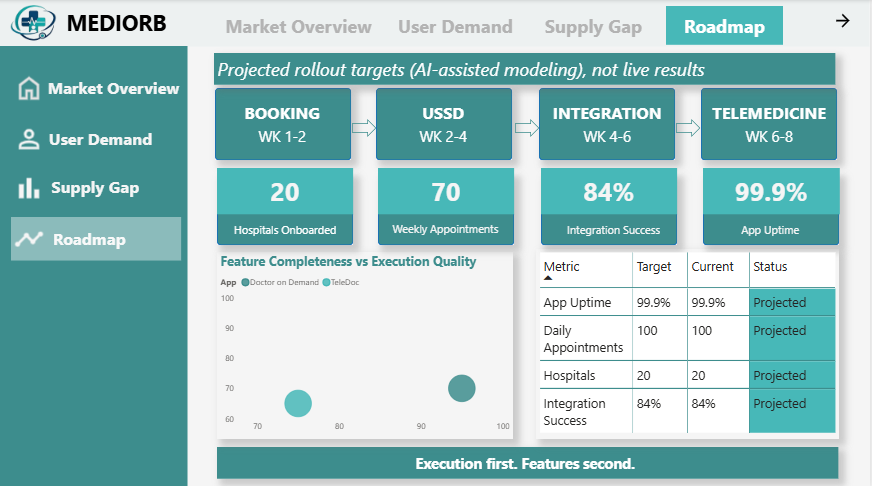

The page's visual inventory and layout, read from the dashboard file:
{"tool":"powerbi","page":{"name":"Page 4","canvas":[1280,720],"ordinal":3},"visuals":[{"type":"actionButton","box":[577.5,11.8,189.6,57.3],"z":0,"group":"g9"},{"type":"textbox","title":"P1_Market1","box":[321.8,16.2,236.6,52.9],"z":0,"group":"g11"},{"type":"textbox","title":"P1_User1","box":[570.2,16.2,201.3,52.9],"z":0,"group":"g5"},{"type":"shape","title":"P1_Navigation","box":[0,69.1,277.1,650.7],"z":0},{"type":"group","id":"g1","title":"P2_Cards","box":[317.1,131.4,913.7,106.7],"z":0,"group":"g6"},{"type":"group","id":"g2","title":"Group 1","box":[317.1,131.4,913.7,106.7],"z":0,"group":"g1"},{"type":"shape","box":[553.6,131.9,200.1,106.1],"z":0,"group":"g2"},{"type":"group","id":"g3","title":"P2_Cards","box":[320.5,249,915,120],"z":0,"group":"g10"},{"type":"group","id":"g4","title":"Group 1","box":[320.6,255.9,913.7,113.1],"z":0,"group":"g3"},{"type":"shape","box":[557.1,256.4,200.1,106.1],"z":0,"group":"g4"},{"type":"scatterChart","title":"Feature Completeness vs Execution Quality","fields":{"X":["Table.Feature Completeness"],"Y":["Table.Execution Quality"],"Series":["Table.App"]},"box":[320,372.4,434.9,274.8],"z":0,"group":"g7"},{"type":"shape","title":"P1_CardShape","box":[320,658.4,913.3,46.7],"z":0,"group":"g8"},{"type":"group","id":"g5","title":"Group 2","box":[323.3,10.3,828.7,58.8],"z":1000,"group":"g11"},{"type":"actionButton","box":[323.3,11.8,236.6,57.3],"z":1000,"group":"g9"},{"type":"textbox","title":"P1_Supply1","box":[781.7,16.2,183.7,52.9],"z":1000,"group":"g5"},{"type":"group","id":"g6","title":"Group 3","box":[317.1,131.4,918.4,570.8],"z":1000,"group":"g8"},{"type":"shape","box":[793,131.9,200.1,106.1],"z":1000,"group":"g2"},{"type":"group","id":"g7","title":"Group 2","box":[320,145.8,915.5,556.4],"z":1000,"group":"g6"},{"type":"textbox","title":"P4_TEXTBOX02","box":[559.2,182.3,185.8,44.8],"z":1000,"group":"g7"},{"type":"textbox","title":"P1_NAV_UserDemand","box":[66.2,184.1,166.3,53.6],"z":1000},{"type":"card","title":"Nigeria Population","fields":{"Values":["Avg(Appointment Activity.Appointments Booked)"]},"box":[557,249,199.7,68.2],"z":1000,"group":"g3"},{"type":"shape","box":[796.5,256.4,200.1,106.1],"z":1000,"group":"g4"},{"type":"actionButton","box":[781.7,10.3,183.7,57.3],"z":2000,"group":"g9"},{"type":"group","id":"g8","title":"P4_CONTENT","box":[317.1,131.4,918.4,573.6],"z":2000},{"type":"shape","box":[1030.7,131.9,200.1,106.1],"z":2000,"group":"g2"},{"type":"card","title":"Nigeria Population","fields":{"Values":["Max(Hospital Onboarding Progress.Integration Success Rate (%))"]},"box":[796.4,249,199.7,68.2],"z":2000,"group":"g3"},{"type":"shape","box":[1034.2,256.4,200.1,106.1],"z":2000,"group":"g4"},{"type":"textbox","title":"P1_CardText","box":[606.1,662.9,334.3,39.3],"z":2000,"group":"g7"},{"type":"group","id":"g9","title":"P1TOPBUTTONS","box":[323.3,10.3,828.7,58.8],"z":3000,"group":"g5"},{"type":"actionButton","box":[980.1,10.3,171.9,57.3],"z":3000,"group":"g9"},{"type":"shape","title":"P1_CardShape","box":[316.4,78.7,913.3,46.7],"z":3000},{"type":"shape","box":[317.1,131.4,200.1,106.1],"z":3000,"group":"g2"},{"type":"textbox","title":"P4_TEXTBOOK1","box":[323.3,145.8,185.8,44.8],"z":3000,"group":"g7"},{"type":"card","title":"Nigeria Population","fields":{"Values":["Hospital Onboarding Progress.App Uptime"]},"box":[1034.3,249,201.2,68.2],"z":3000,"group":"g3"},{"type":"shape","box":[320.6,255.9,200.1,106.1],"z":3000,"group":"g4"},{"type":"textbox","title":"P1_Roadmap1","box":[980.1,16.2,171.9,52.9],"z":3500,"group":"g5"},{"type":"shape","title":"PI_Header","box":[0,0,1279.3,70.1],"z":4000},{"type":"textbox","title":"P4_TEXTBOX2","box":[575.2,145.8,153.7,44.8],"z":4000,"group":"g7"},{"type":"textbox","box":[322.5,182.8,185.8,44.8],"z":4000,"group":"g2"},{"type":"card","title":"Nigeria Population","fields":{"Values":["Max(Hospital Onboarding Progress.Hospitals Onboarded)"]},"box":[320.5,249,199.7,68.2],"z":4000,"group":"g3"},{"type":"textbox","box":[557.1,322.6,198.3,46.4],"z":4000,"group":"g4"},{"type":"textbox","title":"P1_MEDIORB","box":[94,7.3,157.2,52.9],"z":5000},{"type":"group","id":"g10","title":"P3_Content","box":[320.5,249,915,120],"z":5000,"group":"g7"},{"type":"textbox","box":[1040.7,323.9,185.8,44.8],"z":5000,"group":"g4"},{"type":"textbox","title":"P1_CardText","box":[316.4,78.7,749,51.8],"z":6000},{"type":"textbox","title":"P4_TEXTBOX1","box":[800.4,145.8,185.8,44.8],"z":6000,"group":"g7"},{"type":"textbox","box":[815.1,323.9,160.8,43.1],"z":6000,"group":"g4"},{"type":"image","title":"P1_ARROWICON","box":[1225.5,11.8,29.4,39.7],"z":7000},{"type":"textbox","title":"P4_TEXTBOX2","box":[1038,145.8,185.8,44.8],"z":7000,"group":"g7"},{"type":"textbox","box":[327.8,323.9,185.8,44.8],"z":7000,"group":"g4"},{"type":"group","id":"g11","title":"Group 3","box":[321.8,10.3,830.2,58.8],"z":8000},{"type":"textbox","title":"P4_TEXTBOX3","box":[800.4,182.3,185.8,44.8],"z":8000,"group":"g7"},{"type":"textbox","title":"P1_NAV_Market","box":[60.8,109,216.3,44.7],"z":9000},{"type":"textbox","title":"P4_TEXTBOX4","box":[1038,182.3,185.8,44.8],"z":9000,"group":"g7"},{"type":"shape","title":"P4_ARROW1","box":[518.1,177.3,35.7,26.5],"z":10000,"group":"g7"},{"type":"textbox","title":"P1_NAV_Roadmap","box":[71.5,330.7,121.6,53.6],"z":10000},{"type":"shape","title":"P4_ARROW2","box":[757.5,177.3,35.7,26.5],"z":11000,"group":"g7"},{"type":"textbox","title":"P1_NAV_Supply","box":[71.5,253.8,139.4,53.6],"z":11000},{"type":"image","title":"P1_MEDIORBICON","box":[0,2.9,105.8,61.7],"z":12000},{"type":"shape","title":"P4_WK6-8","box":[995.1,177.3,35.7,26.5],"z":12000,"group":"g7"},{"type":"actionButton","title":"Userdemand Button","box":[17.9,173.4,252.1,64.4],"z":13000},{"type":"tableEx","title":"P4_Table","fields":{"Values":["Status Table.Metric ","Status Table.Target","Status Table.Current","Status Table.Status"]},"box":[788.7,368,445.2,279.2],"z":13000,"group":"g7"},{"type":"actionButton","title":"Roadmap Button","box":[17.9,320,250.3,64.4],"z":14000},{"type":"actionButton","title":"Supplygap Button","box":[17.9,244.9,250.3,64.4],"z":15000},{"type":"actionButton","title":"Marketoverview Button","box":[17.9,98.3,252.1,64.4],"z":16000}]}

Visuals, with their boxes in screenshot pixels (x1, y1, x2, y2), scaled from the page's 1280x720 canvas onto the 872x486 screenshot:
actionButton: <region>393, 8, 523, 47</region>
"P1_Market1" textbox: <region>219, 11, 380, 47</region>
"P1_User1" textbox: <region>388, 11, 526, 47</region>
"P1_Navigation" shape: <region>0, 47, 189, 485</region>
"P2_Cards" group: <region>216, 89, 838, 161</region>
"Group 1" group: <region>216, 89, 838, 161</region>
shape: <region>377, 89, 513, 161</region>
"P2_Cards" group: <region>218, 168, 842, 249</region>
"Group 1" group: <region>218, 173, 841, 249</region>
shape: <region>380, 173, 516, 245</region>
"Feature Completeness vs Execution Quality" scatterChart: <region>218, 251, 514, 437</region>
"P1_CardShape" shape: <region>218, 444, 840, 476</region>
"Group 2" group: <region>220, 7, 785, 47</region>
actionButton: <region>220, 8, 381, 47</region>
"P1_Supply1" textbox: <region>533, 11, 658, 47</region>
"Group 3" group: <region>216, 89, 842, 474</region>
shape: <region>540, 89, 677, 161</region>
"Group 2" group: <region>218, 98, 842, 474</region>
"P4_TEXTBOX02" textbox: <region>381, 123, 508, 153</region>
"P1_NAV_UserDemand" textbox: <region>45, 124, 158, 160</region>
"Nigeria Population" card: <region>379, 168, 516, 214</region>
shape: <region>543, 173, 679, 245</region>
actionButton: <region>533, 7, 658, 46</region>
"P4_CONTENT" group: <region>216, 89, 842, 476</region>
shape: <region>702, 89, 838, 161</region>
"Nigeria Population" card: <region>543, 168, 679, 214</region>
shape: <region>705, 173, 841, 245</region>
"P1_CardText" textbox: <region>413, 447, 641, 474</region>
"P1TOPBUTTONS" group: <region>220, 7, 785, 47</region>
actionButton: <region>668, 7, 785, 46</region>
"P1_CardShape" shape: <region>216, 53, 838, 85</region>
shape: <region>216, 89, 352, 160</region>
"P4_TEXTBOOK1" textbox: <region>220, 98, 347, 129</region>
"Nigeria Population" card: <region>705, 168, 842, 214</region>
shape: <region>218, 173, 355, 244</region>
"P1_Roadmap1" textbox: <region>668, 11, 785, 47</region>
"PI_Header" shape: <region>0, 0, 871, 47</region>
"P4_TEXTBOX2" textbox: <region>392, 98, 497, 129</region>
textbox: <region>220, 123, 346, 154</region>
"Nigeria Population" card: <region>218, 168, 354, 214</region>
textbox: <region>380, 218, 515, 249</region>
"P1_MEDIORB" textbox: <region>64, 5, 171, 41</region>
"P3_Content" group: <region>218, 168, 842, 249</region>
textbox: <region>709, 219, 836, 249</region>
"P1_CardText" textbox: <region>216, 53, 726, 88</region>
"P4_TEXTBOX1" textbox: <region>545, 98, 672, 129</region>
textbox: <region>555, 219, 665, 248</region>
"P1_ARROWICON" image: <region>835, 8, 855, 35</region>
"P4_TEXTBOX2" textbox: <region>707, 98, 834, 129</region>
textbox: <region>223, 219, 350, 249</region>
"Group 3" group: <region>219, 7, 785, 47</region>
"P4_TEXTBOX3" textbox: <region>545, 123, 672, 153</region>
"P1_NAV_Market" textbox: <region>41, 74, 189, 104</region>
"P4_TEXTBOX4" textbox: <region>707, 123, 834, 153</region>
"P4_ARROW1" shape: <region>353, 120, 377, 138</region>
"P1_NAV_Roadmap" textbox: <region>49, 223, 132, 259</region>
"P4_ARROW2" shape: <region>516, 120, 540, 138</region>
"P1_NAV_Supply" textbox: <region>49, 171, 144, 207</region>
"P1_MEDIORBICON" image: <region>0, 2, 72, 44</region>
"P4_WK6-8" shape: <region>678, 120, 702, 138</region>
"Userdemand Button" actionButton: <region>12, 117, 184, 161</region>
"P4_Table" tableEx: <region>537, 248, 841, 437</region>
"Roadmap Button" actionButton: <region>12, 216, 183, 259</region>
"Supplygap Button" actionButton: <region>12, 165, 183, 209</region>
"Marketoverview Button" actionButton: <region>12, 66, 184, 110</region>
